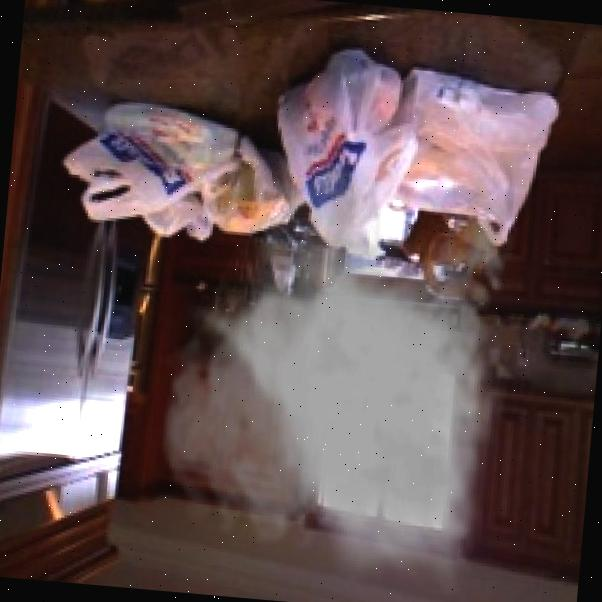smoke: (145, 149, 523, 597)
